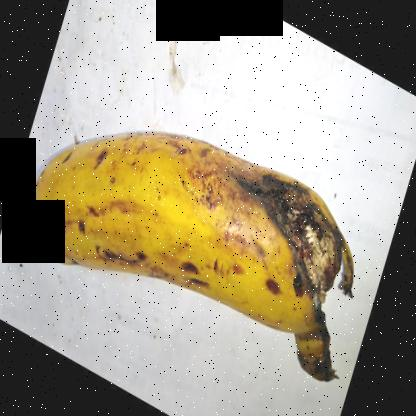ripe: (16, 106, 366, 386)
rotten: (231, 153, 367, 319)
